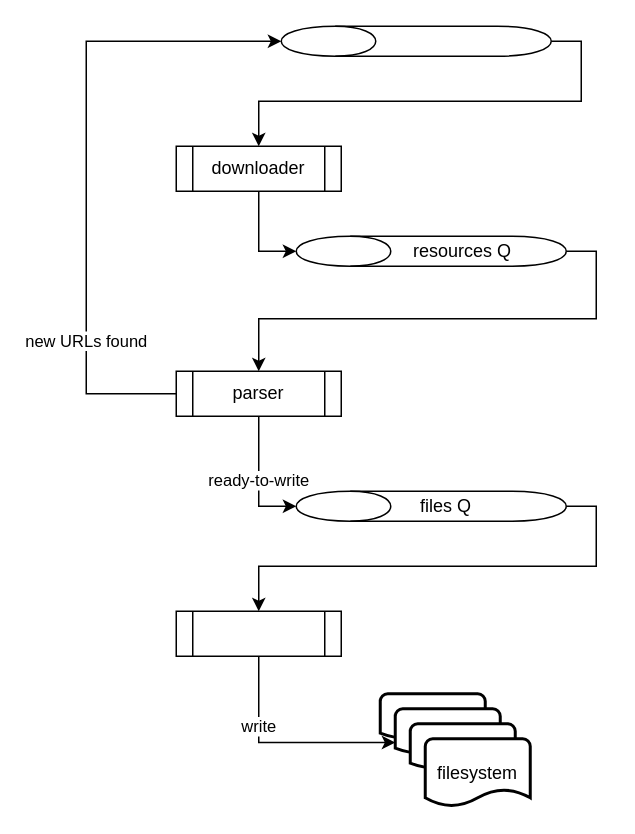
This 635x834 diagram has some shape labels left out. The centre of each missing label's shape, as x and y in pixels:
"urls Q" belongs at point 415,40.
"writer" belongs at point 258,633.
